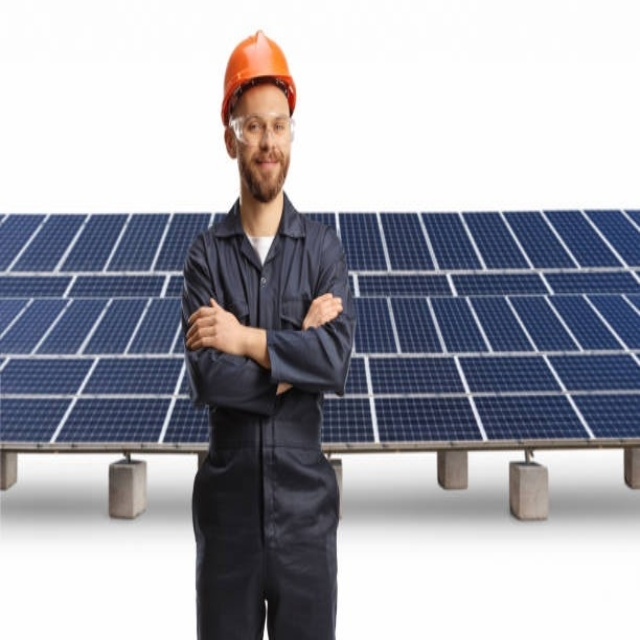Gafas: (227, 115, 296, 151)
Sin_guantes: (183, 295, 244, 351), (301, 289, 347, 329)
Sin_mascara: (250, 146, 283, 184)
